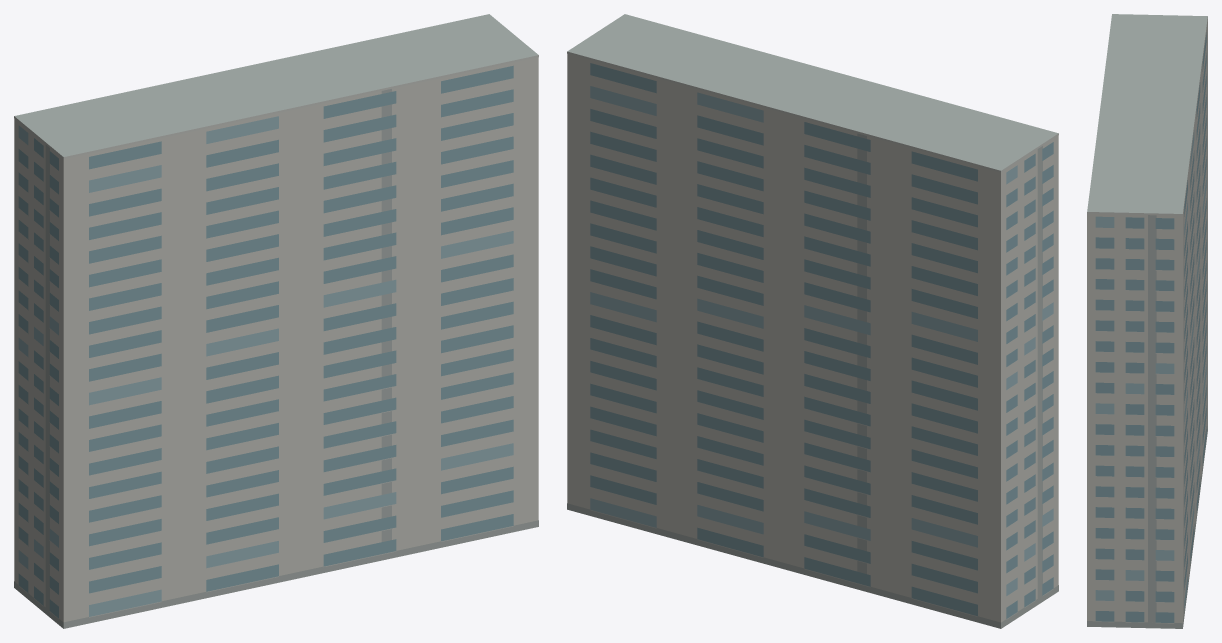
Rendered from residential-d2e27e32-f5ae-47f5-a42d-6ed4cd82ddb9.glb.
The picture shows the model from 3 angles, left to right: view 1: azimuth 30°, elevation 25°; view 2: azimuth 150°, elevation 25°; view 3: azimuth 270°, elevation 25°; orthographic projection. The views are drawn at different scales.
Parts seen in each view (by area): view 1: residential-d2e27e32-f5ae-47f5-a42d-6ed4cd82ddb9.tmp; view 2: residential-d2e27e32-f5ae-47f5-a42d-6ed4cd82ddb9.tmp; view 3: residential-d2e27e32-f5ae-47f5-a42d-6ed4cd82ddb9.tmp.
Boxes of the visible parts, x1,y1,x2,y2 form: residential-d2e27e32-f5ae-47f5-a42d-6ed4cd82ddb9.tmp: (14, 14, 538, 628); residential-d2e27e32-f5ae-47f5-a42d-6ed4cd82ddb9.tmp: (567, 14, 1058, 628); residential-d2e27e32-f5ae-47f5-a42d-6ed4cd82ddb9.tmp: (1087, 14, 1207, 628).
Size of the model in its own units: 55.83 by 54 by 14.25.
